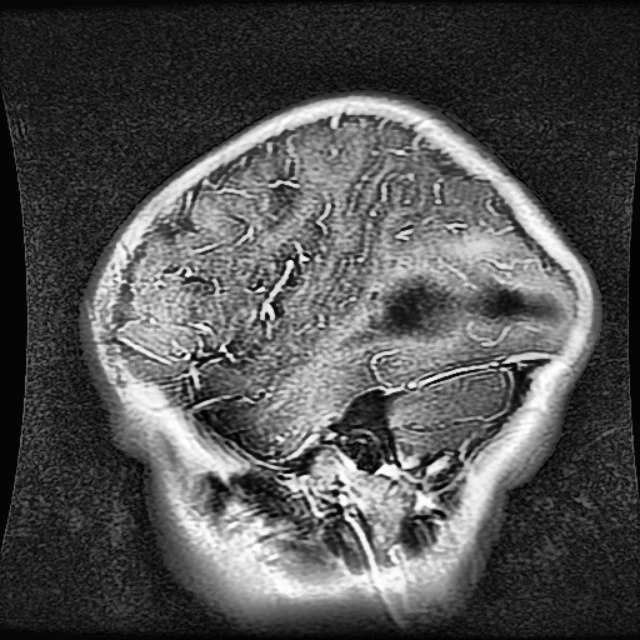Meningioma: (344, 279, 565, 348)
